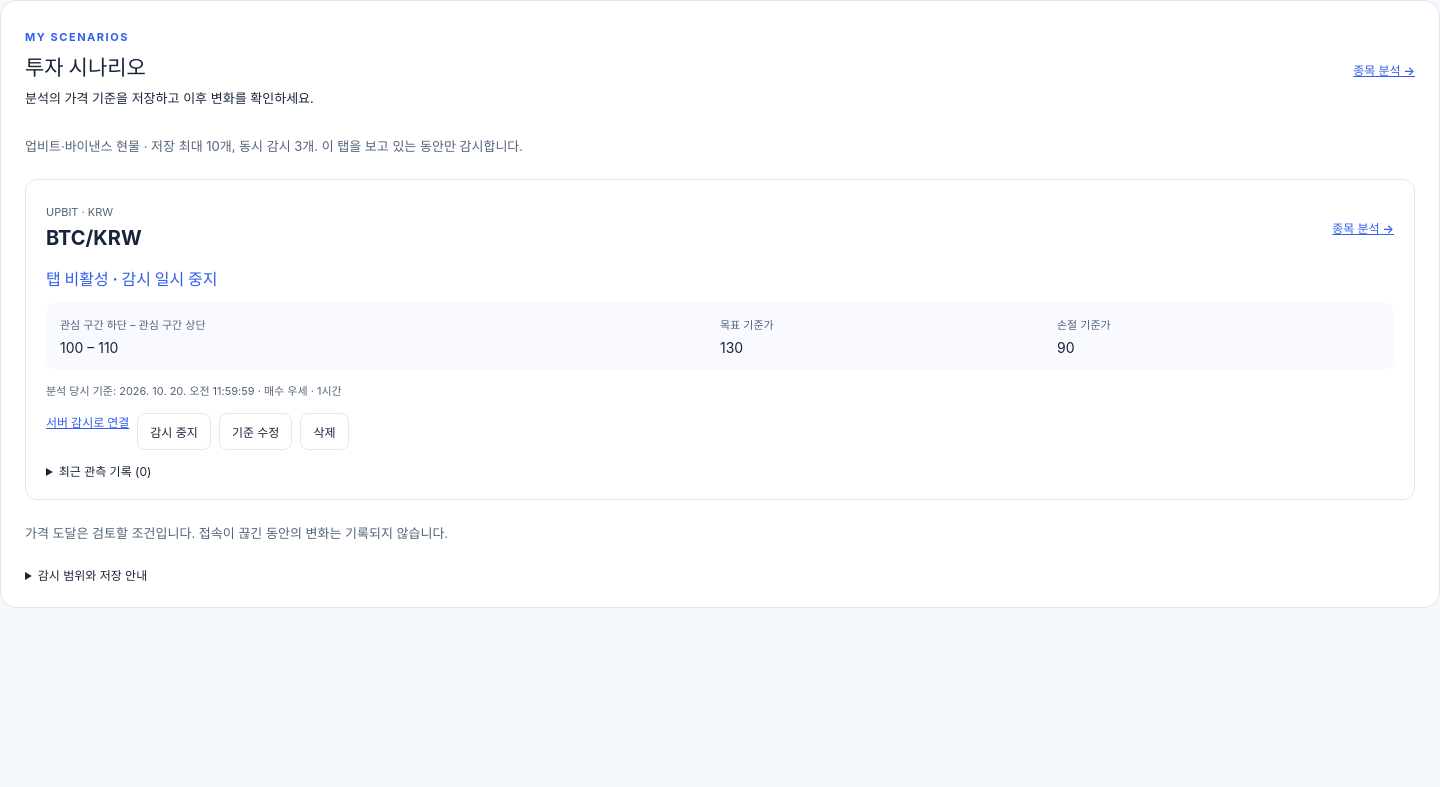
scenario review workflow › rejects price order and links an existing holding without changing its portfolio
The image size is (1440, 787).
Click the button "기준 수정" at [256, 431], box [219,413,292,450]
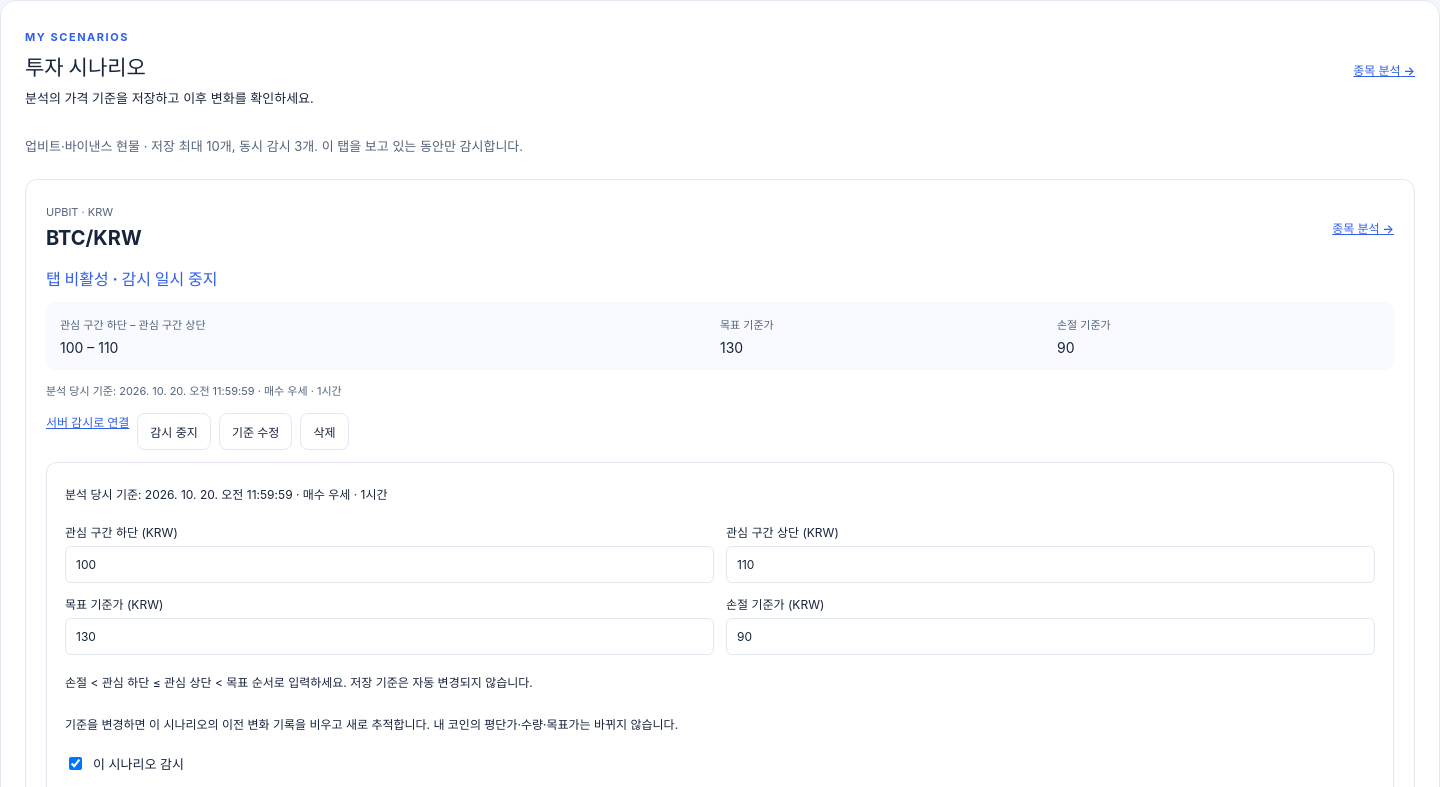
Replace the text in the number field labelled "손절 기준가 (KRW)" with "120" at [1050, 636], box [726,618,1375,655]
(page scrolled)
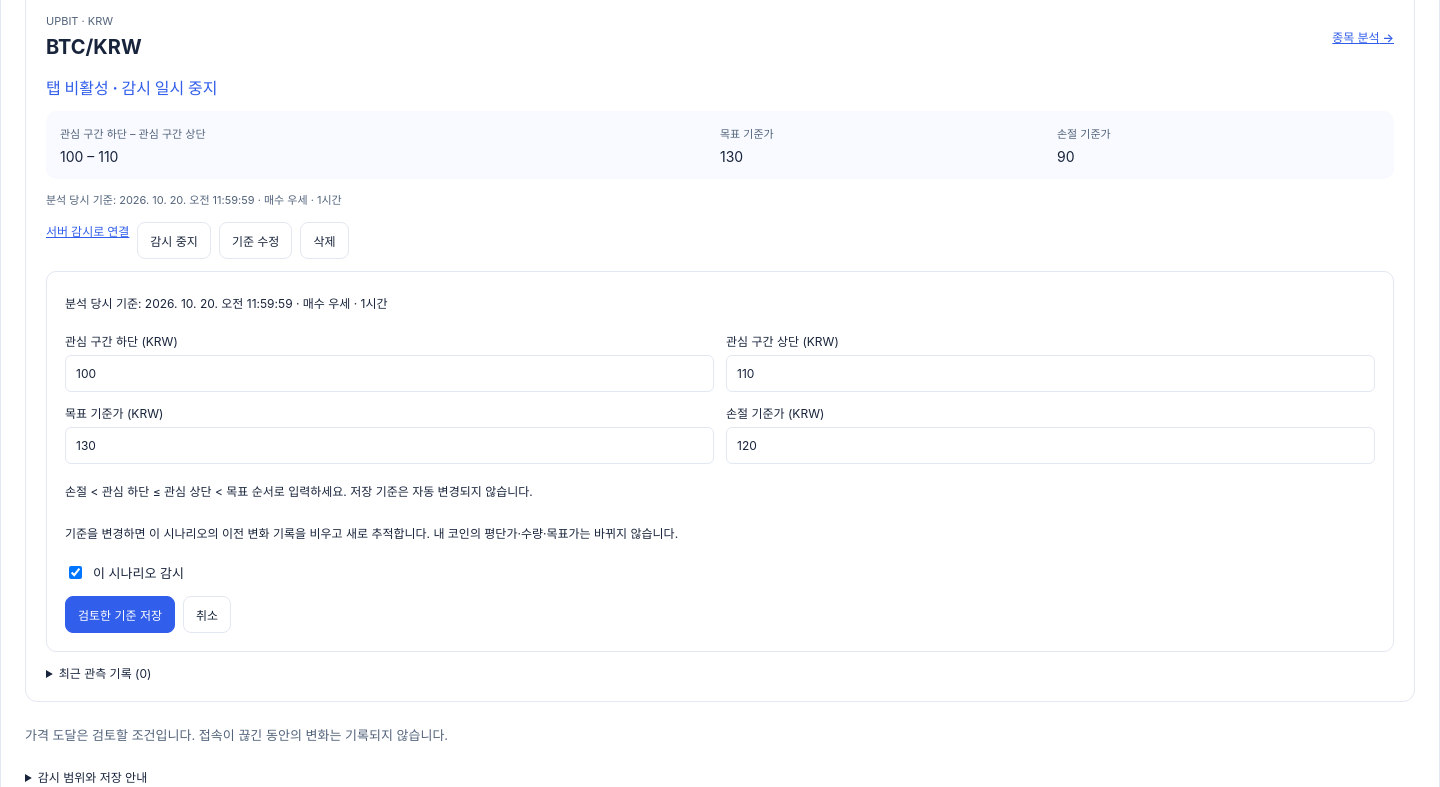
Click the button "검토한 기준 저장" at [120, 614], box [65,596,175,633]
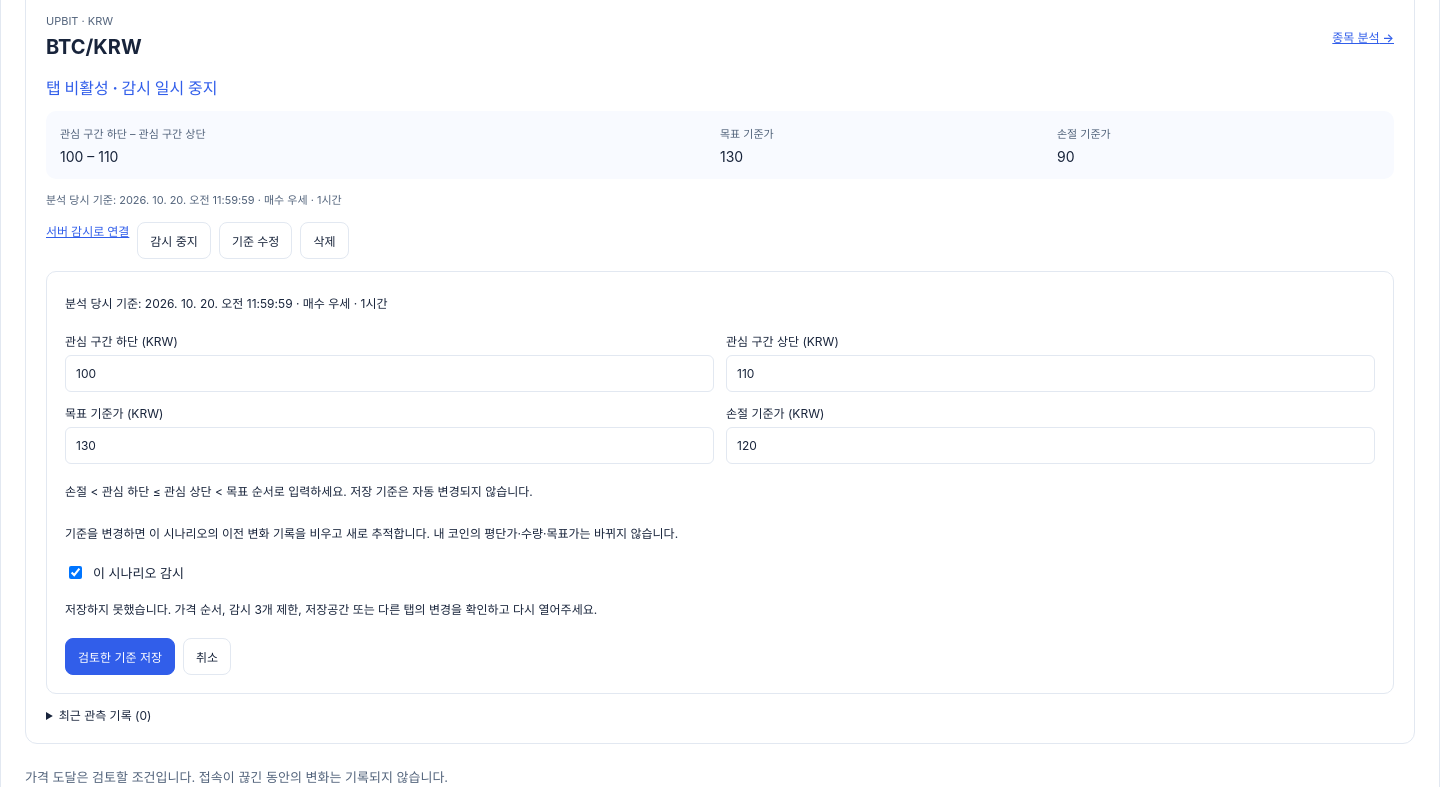
Check: the message "저장하지 못했습니다. 가격 순서, 감시 3개 제한, 저장공간 또는 다른 탭의 변경을 확인하고 다시 열어주세요." is shown, box [65,602,597,617]
